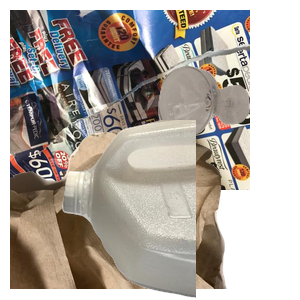glass: (156, 64, 300, 194)
paper: (10, 10, 250, 190)
plastic: (60, 120, 300, 300)
trash: (10, 120, 229, 300)
